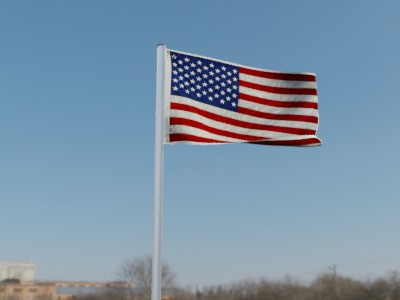American Flag: (164, 50, 326, 150)
